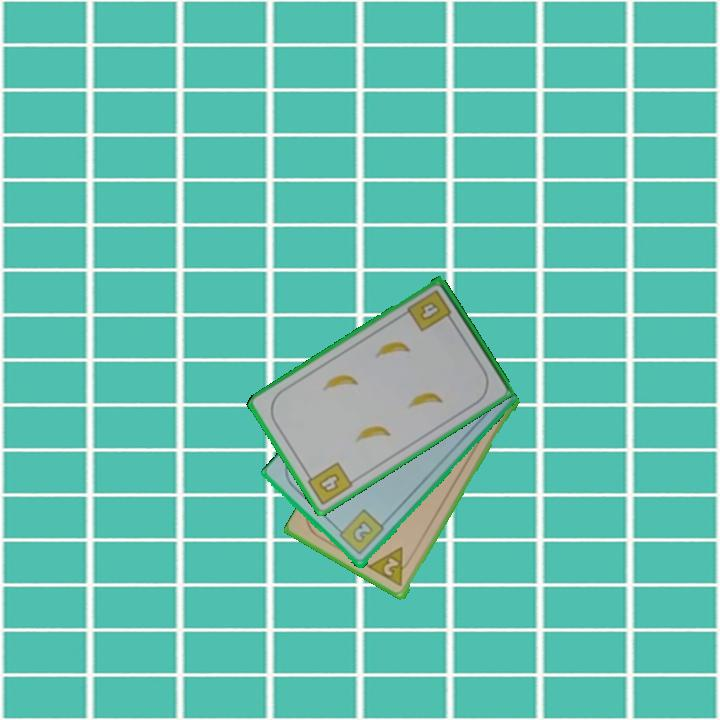2b: (333, 506, 387, 558)
2p: (366, 543, 416, 590)
4b: (302, 458, 356, 508), (404, 286, 456, 335)
